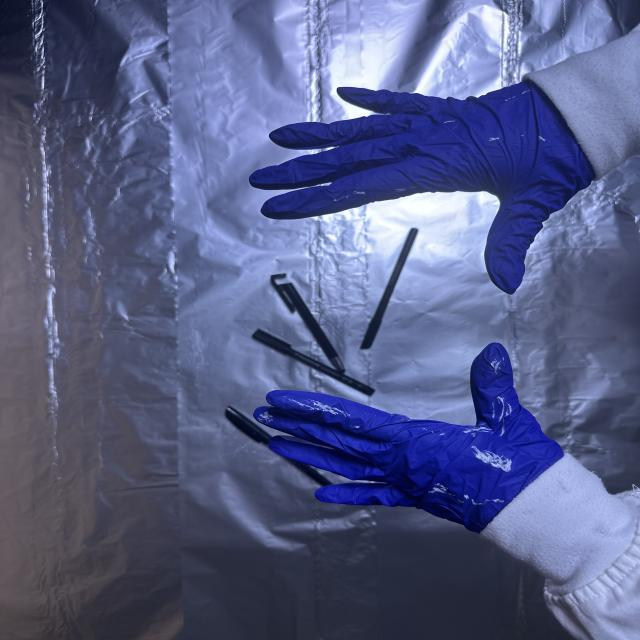gloves_contaminated: (250, 83, 594, 294), (254, 343, 563, 533)
